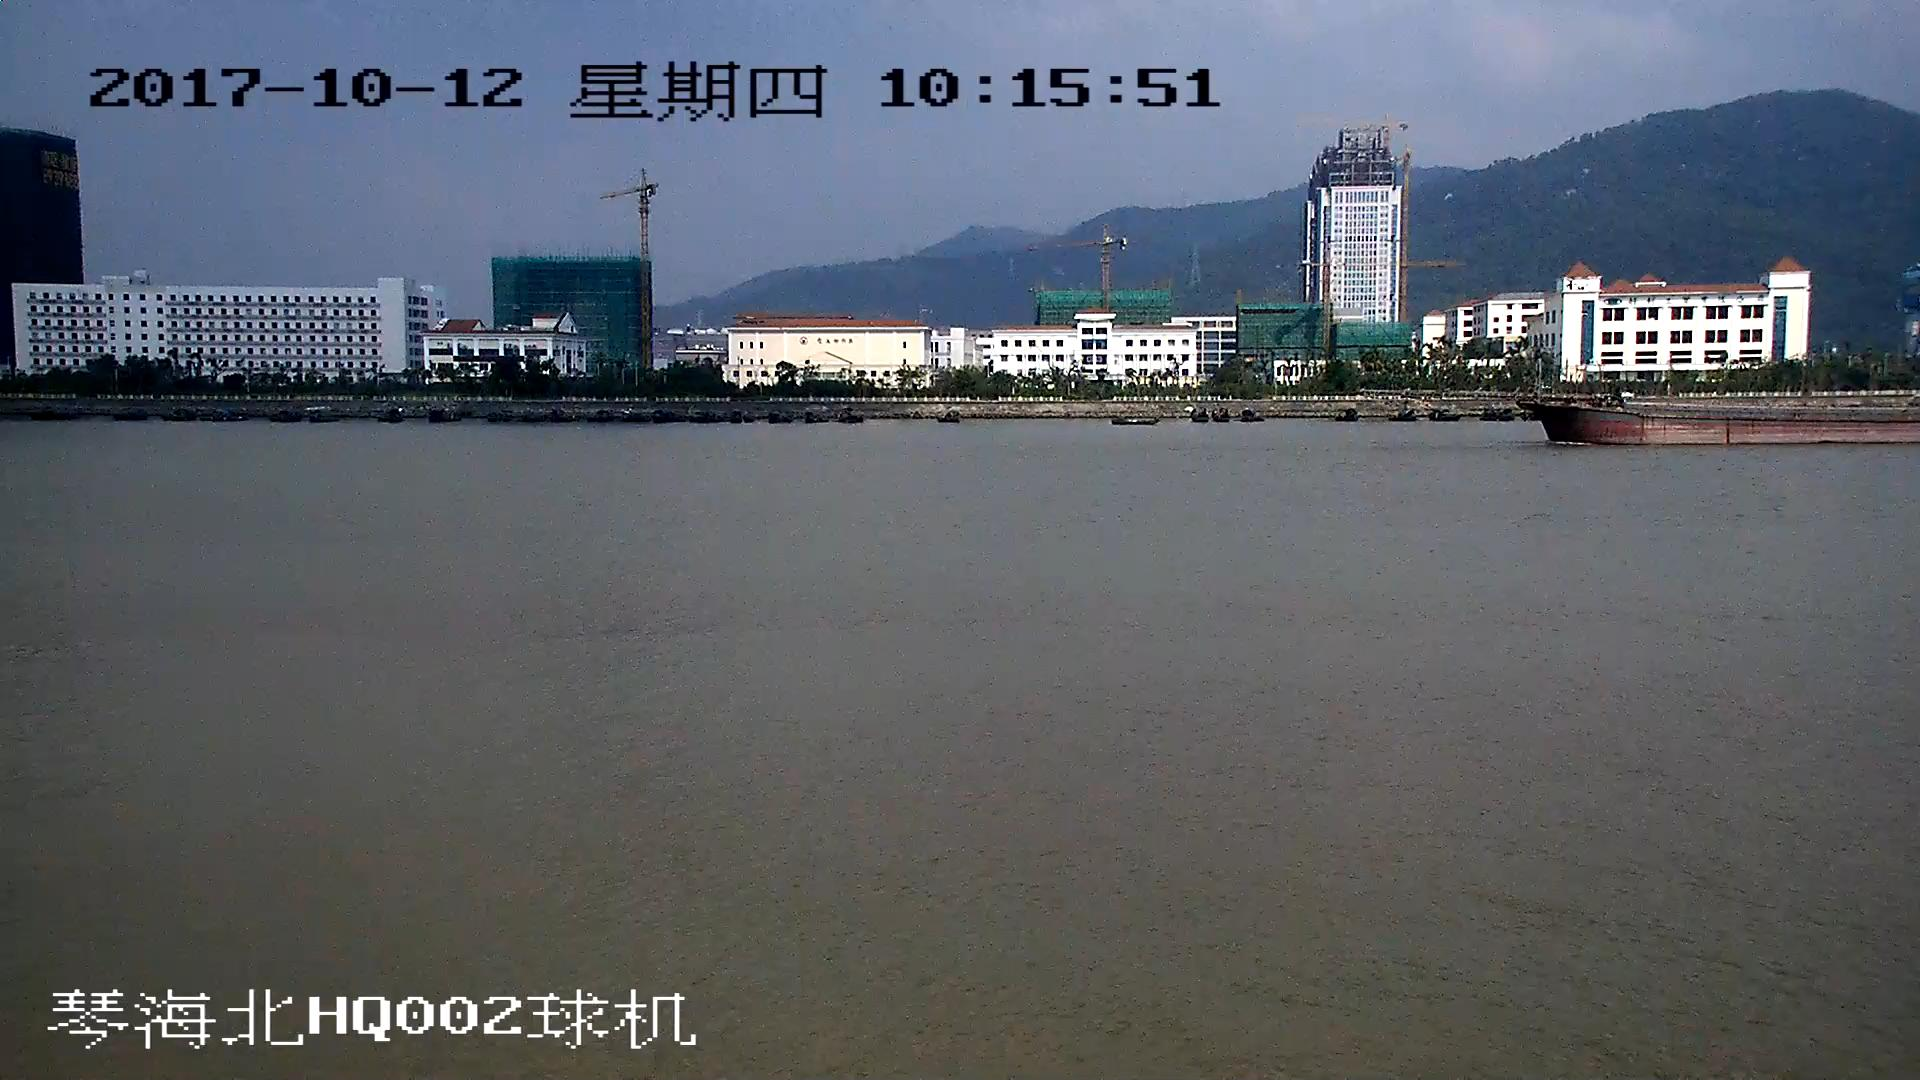bulk cargo carrier: (1517, 393, 1920, 446)
